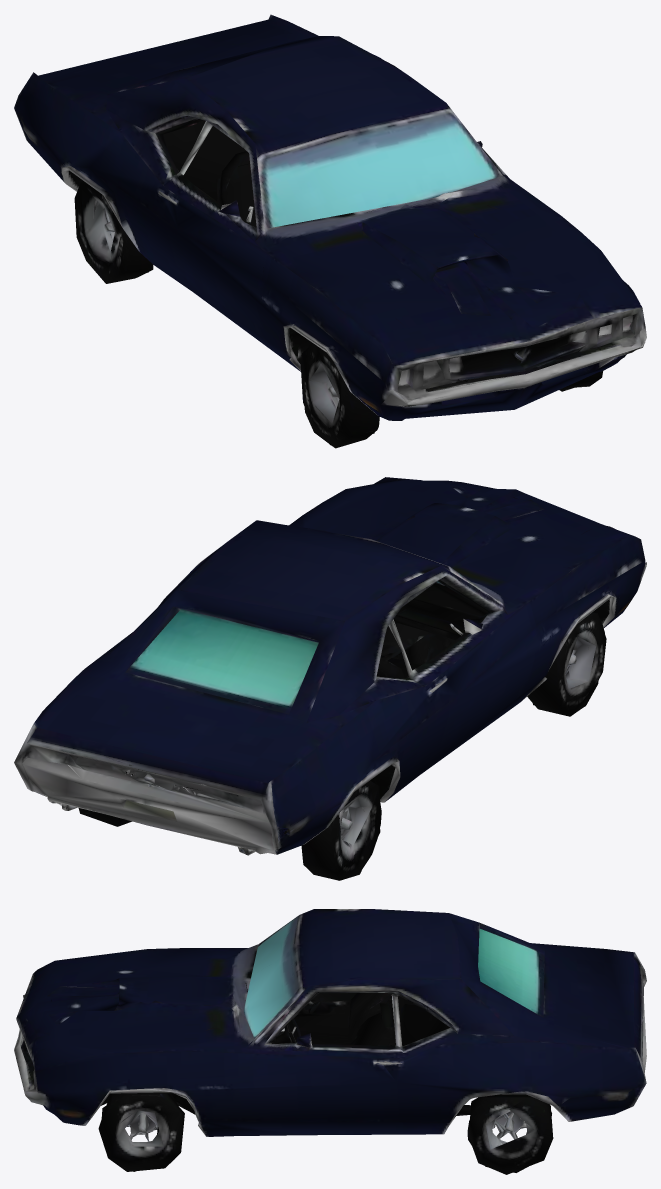
File: car_muscle.glb
The picture shows the model from 3 angles, top to bottom: view 1: azimuth 30°, elevation 25°; view 2: azimuth 150°, elevation 25°; view 3: azimuth 270°, elevation 25°; orthographic projection. The views are drawn at different scales.
Parts seen in each view (by area): view 1: world; view 2: world; view 3: world.
Boxes of the visible parts, bbox=[...] form: world: bbox=[14, 14, 646, 448]; world: bbox=[14, 477, 646, 880]; world: bbox=[14, 909, 646, 1174].
Size of the model in its own units: 0.4329 by 0.3141 by 0.9969.
Materials: 1 (1 with a texture image).
